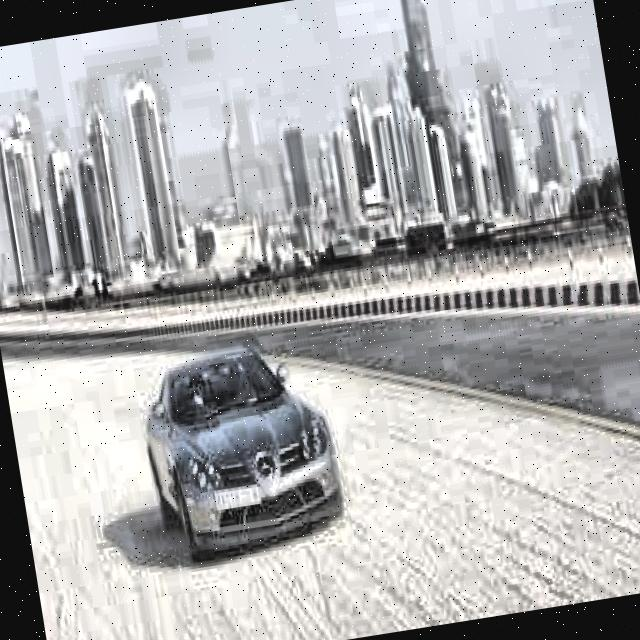license_plate: (214, 483, 263, 512)
